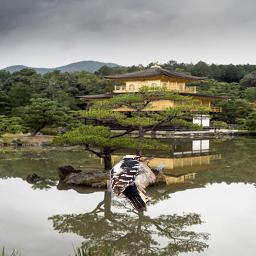Woodpecker: (107, 153, 168, 212)
